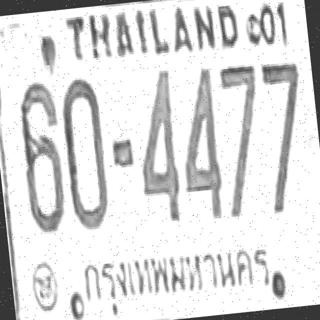N00: (58, 75, 111, 231)
N04: (129, 66, 184, 223), (172, 64, 225, 220)
N06: (15, 79, 68, 234)
N07: (215, 61, 270, 217), (258, 59, 312, 215), (259, 58, 307, 166)
P04: (78, 234, 274, 320)
